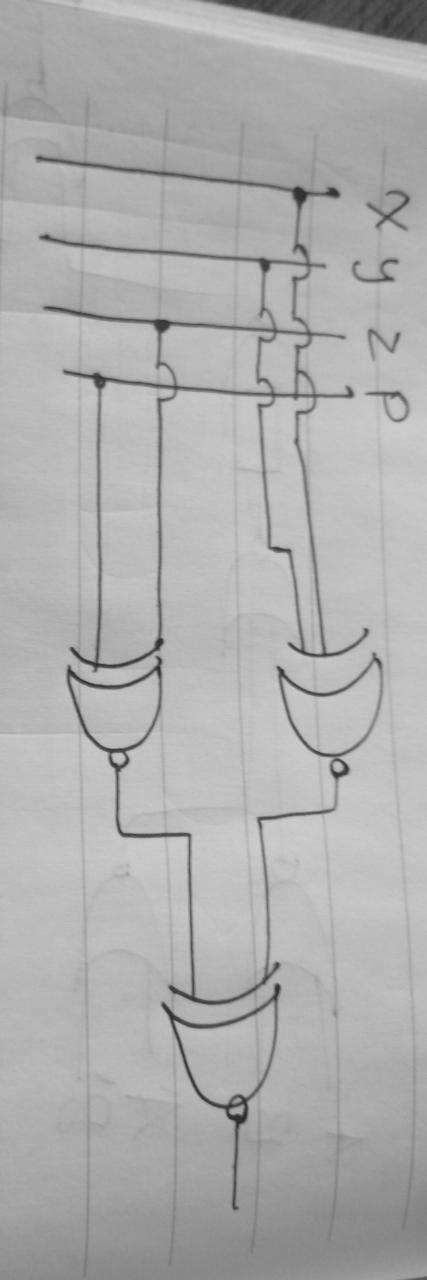XNOR: (112, 942, 335, 1144), (255, 623, 418, 785), (53, 618, 205, 782)
